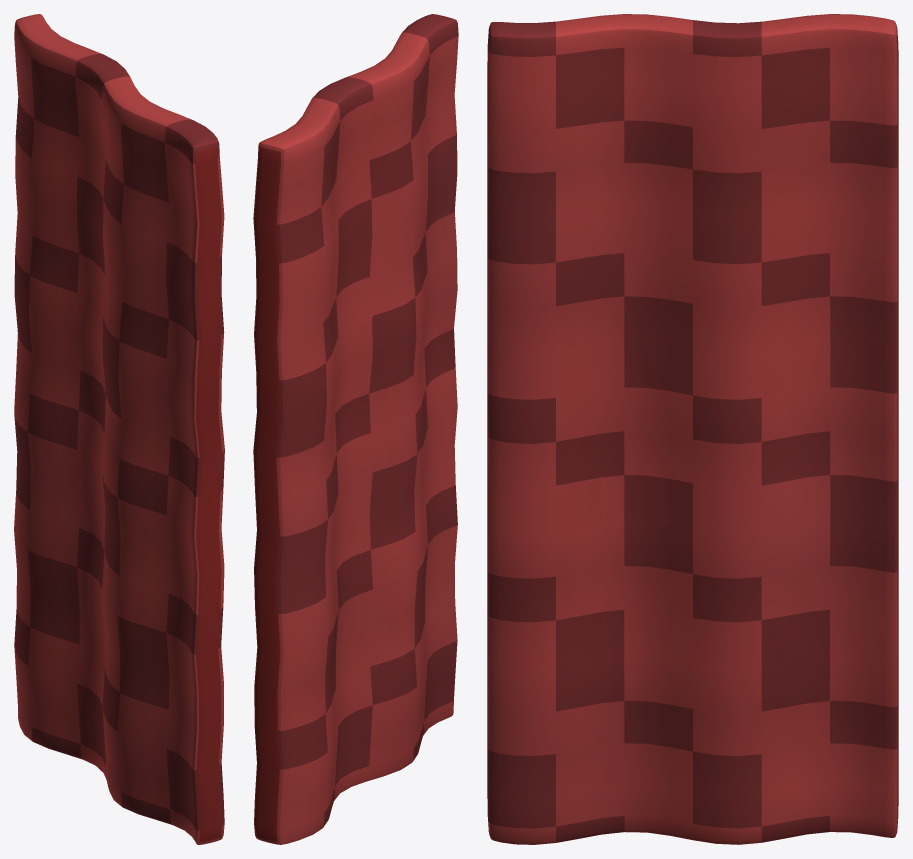
Rendered from den_duvet_drape.glb.
3 renders of one model, left to right at view 1: azimuth 30°, elevation 25°; view 2: azimuth 150°, elevation 25°; view 3: azimuth 270°, elevation 25°, orthographic. The views are drawn at different scales.
Parts seen in each view (by area): view 1: den_duvet_drape; view 2: den_duvet_drape; view 3: den_duvet_drape.
Boxes of the visible parts, box(x1,y1,x2,y2) form: den_duvet_drape: box(14, 14, 224, 844); den_duvet_drape: box(253, 14, 458, 844); den_duvet_drape: box(487, 14, 898, 844).
Bounding box in the file's own units: 4.45 × 52 × 24.
